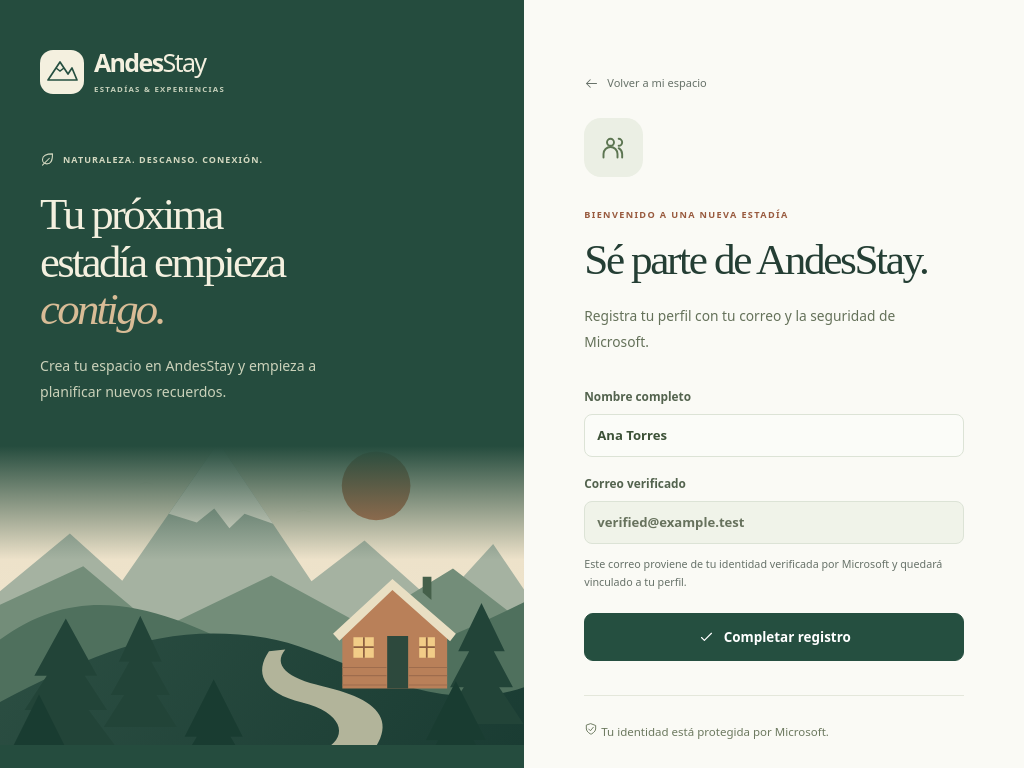
Test: Registro con identidad Microsoft › registra solo el nombre con bearer y conserva la cuenta verificada como solo lectura
Expected: the field labelled "Correo verificado" holds "verified@example.test", [584,501,964,544]
Replace the text in the field labelled "Nombre completo" with "  Ana Torres  " at [774, 436], box [584,414,964,457]
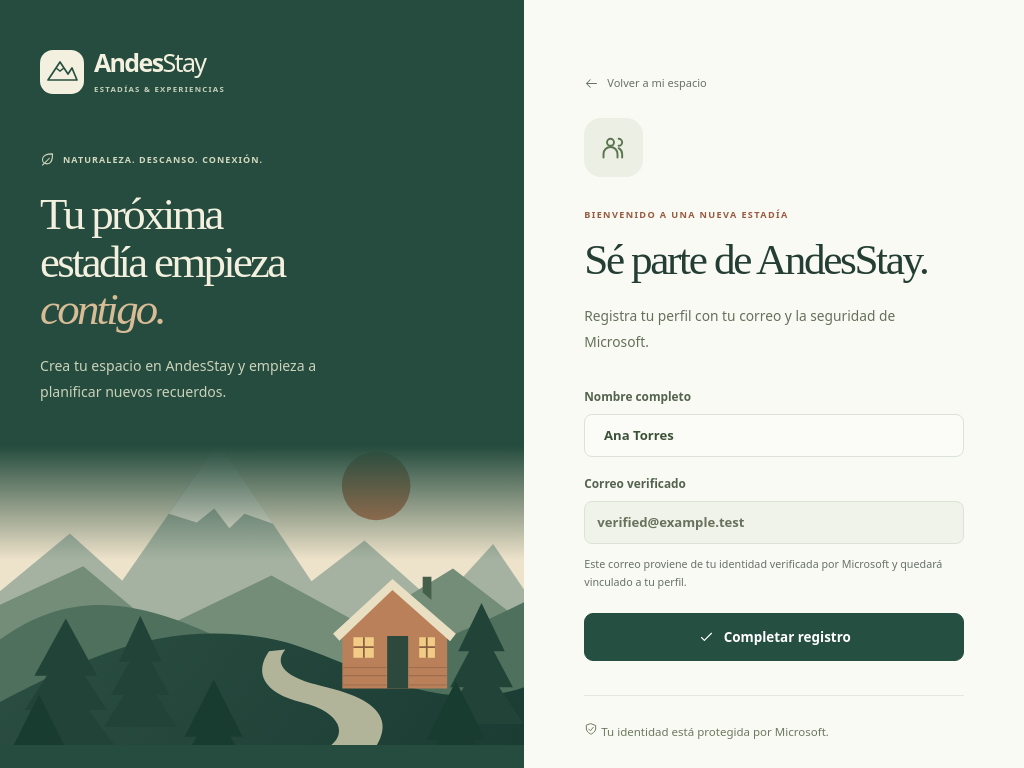
Click the button "Completar registro" at [774, 637], box [584,613,964,661]
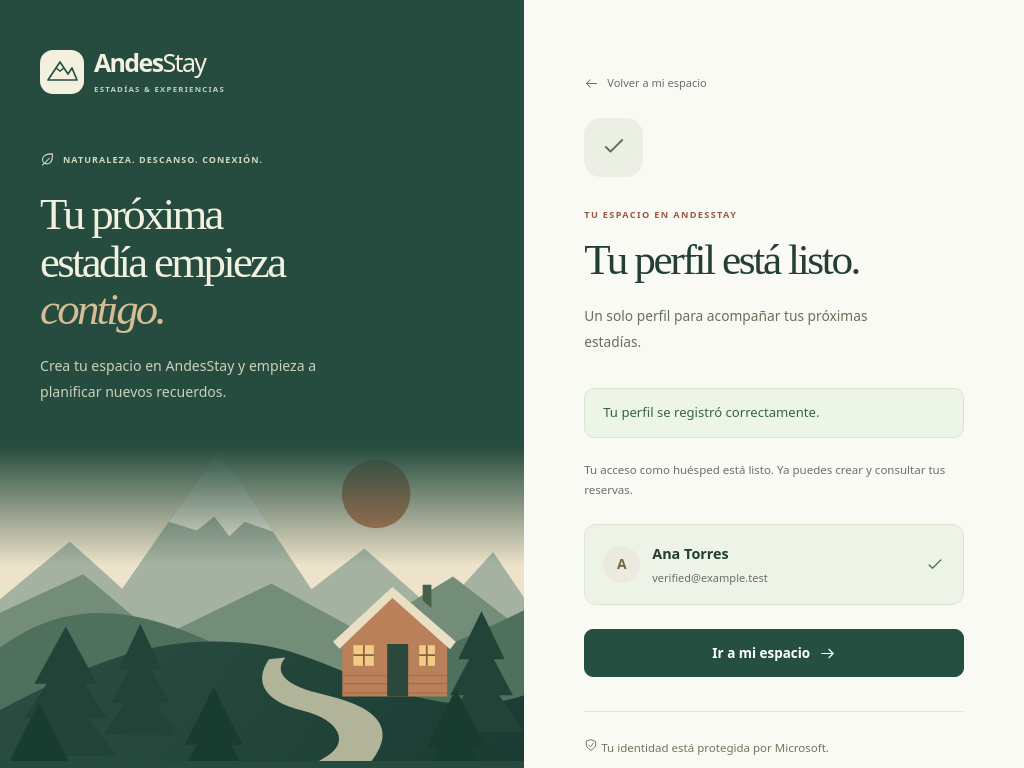
Expected: the text "Tu perfil se registró correctamente." is shown, [584,388,964,438]
